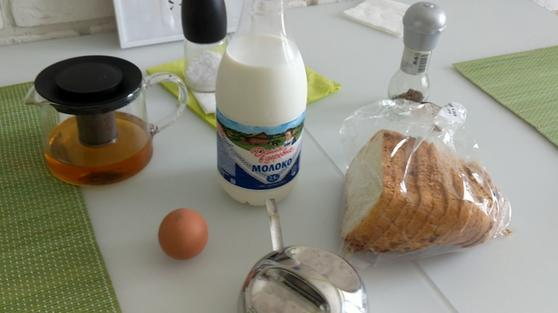egg: (154, 206, 211, 265)
milk: (207, 1, 307, 209)
white_bread: (332, 124, 507, 259)
